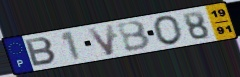1: (60, 30, 82, 63)
8: (183, 11, 211, 41)
B: (115, 19, 153, 53), (23, 36, 59, 68)
O: (152, 14, 185, 47)
V: (85, 23, 115, 57)
